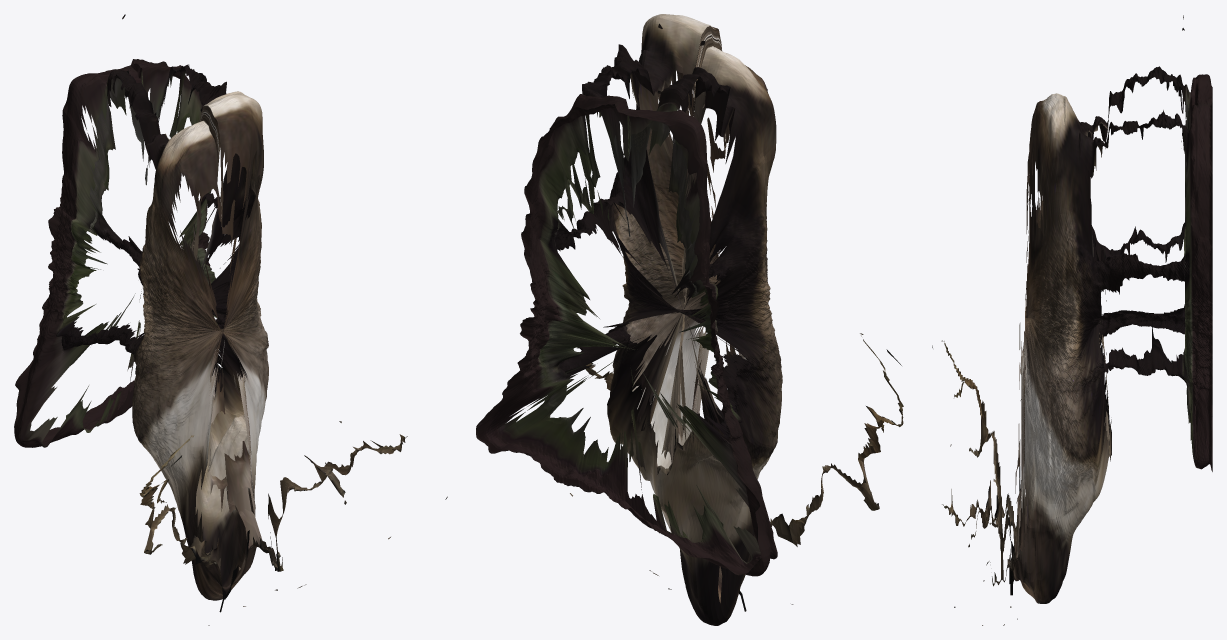
3 views of the same model, side by side, from view 1: azimuth 30°, elevation 25°; view 2: azimuth 150°, elevation 25°; view 3: azimuth 270°, elevation 25° (orthographic). The views are drawn at different scales.
Parts seen in each view (by area): view 1: geometry_0; view 2: geometry_0; view 3: geometry_0.
Boxes of the visible parts, <box> form: geometry_0: <box>14,14,447,625</box>; geometry_0: <box>476,14,903,625</box>; geometry_0: <box>932,15,1212,625</box>.
Size of the model in its own units: 1.21 by 1.99 by 0.8982.
1 material, 1 textured.
